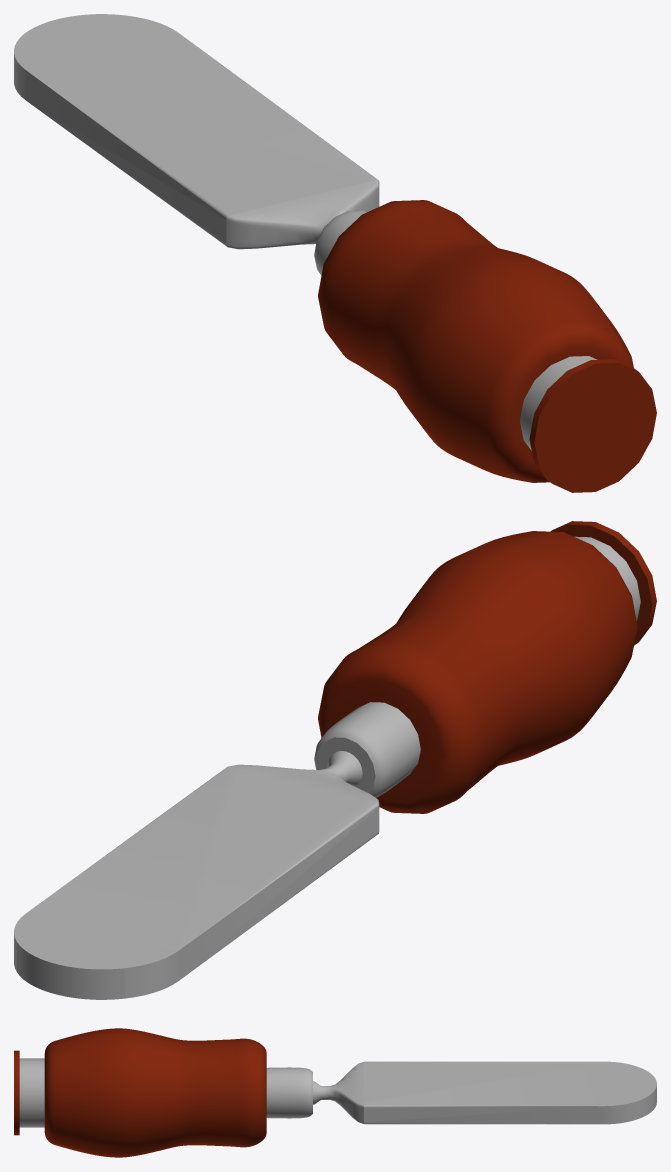
Rendered from RoundTool.FBX.
3 views of the same model, one above another, from view 1: azimuth 30°, elevation 25°; view 2: azimuth 150°, elevation 25°; view 3: azimuth 270°, elevation 25° (orthographic). The views are drawn at different scales.
Parts seen in each view (by area): view 1: RoundTool; view 2: RoundTool; view 3: RoundTool.
Part boxes in pixels (x1,y1,x2,y2): RoundTool: (14, 14, 656, 492); RoundTool: (14, 521, 656, 999); RoundTool: (14, 1028, 656, 1157).
Size of the model in its own units: 18.4 by 18.4 by 91.46.
